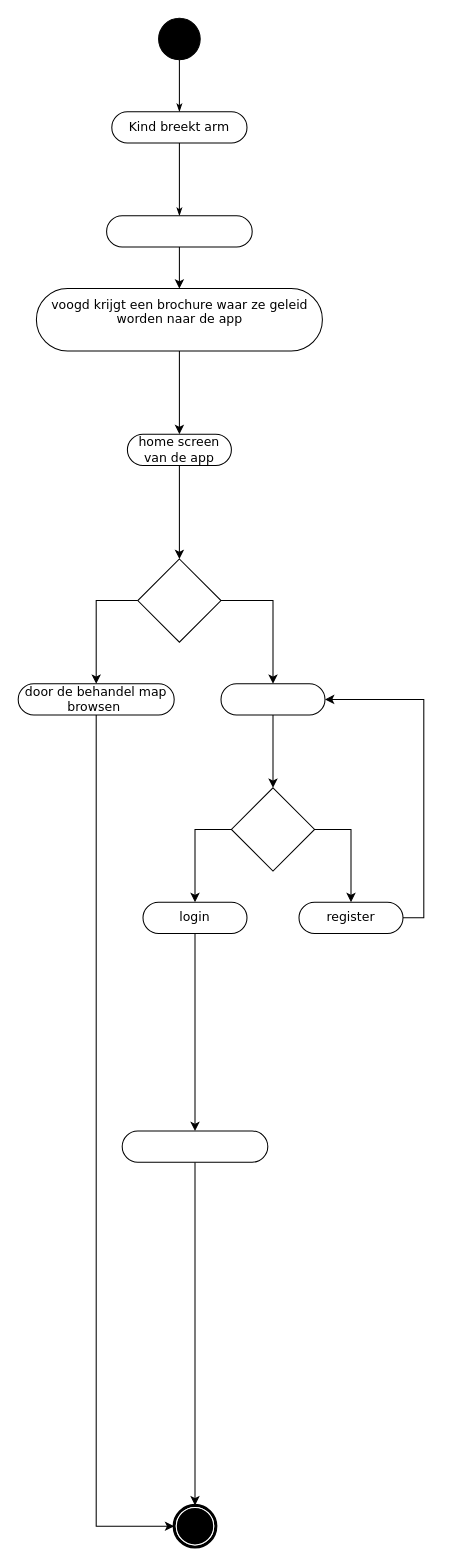
The diagram is 450 pixels wide and 1565 high, and some of its shapes have lost their labels. The shapes that lost their labels are listed below. From the top down, each one's centre as x and y in pixels, then its label:
(x=179, y=231): voogd brengt kind naar het Amphia
(x=272, y=699): login/register environment
(x=194, y=1146): toon zorgplan
